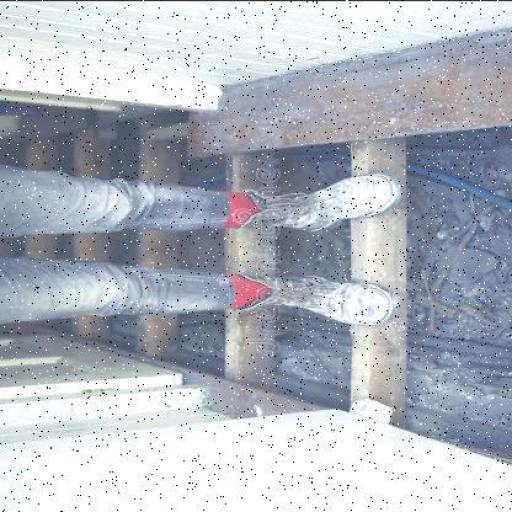safety_shoe: (244, 168, 400, 232), (238, 274, 392, 317)
